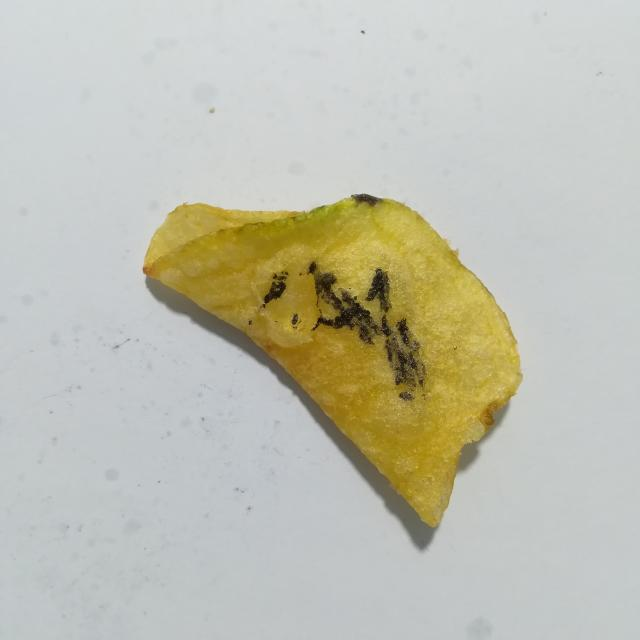chip: (143, 194, 522, 526)
damaged: (309, 262, 379, 344), (381, 316, 425, 401), (366, 268, 391, 312), (262, 271, 288, 308), (351, 194, 382, 206), (291, 313, 298, 326), (248, 320, 252, 325)
